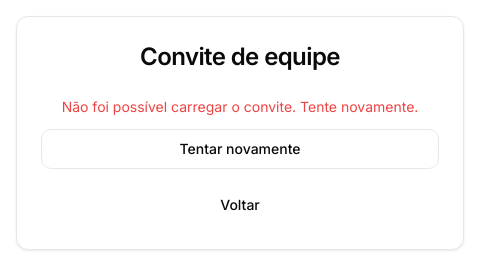
aceite de convite › permite tentar novamente após rejeição de rede
Click the button "Tentar novamente" at {"x": 240, "y": 149}, box x1=41 y1=129 x2=439 y2=169
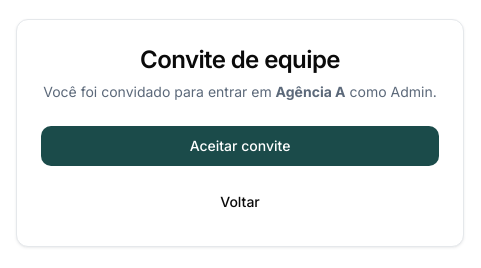
Check: the message "Não foi possível carregar o convite. Tente novamente." is gone
